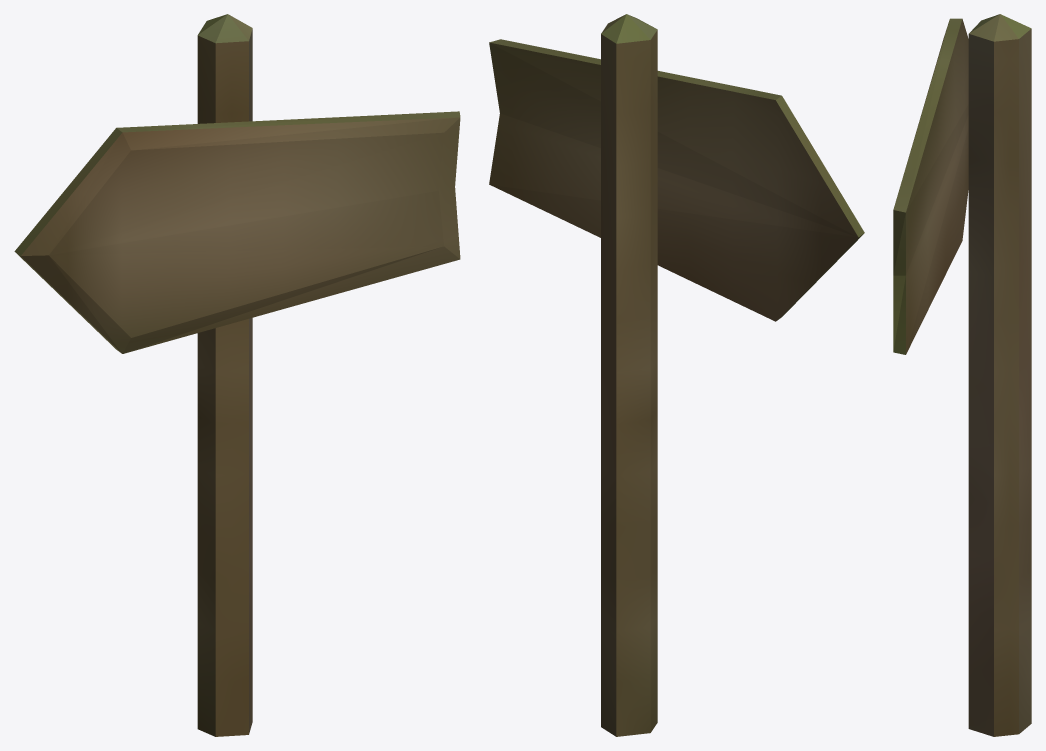
The model's file is signpost_game_lod2.glb.
3 views of the same model, side by side, from view 1: azimuth 30°, elevation 25°; view 2: azimuth 150°, elevation 25°; view 3: azimuth 270°, elevation 25° (orthographic).
Visible parts, largest first — view 1: geometry_0; view 2: geometry_0; view 3: geometry_0.
Boxes of the visible parts, x1=… form: geometry_0: x1=14, y1=14, x2=460, y2=736; geometry_0: x1=489, y1=14, x2=864, y2=736; geometry_0: x1=893, y1=14, x2=1031, y2=736.
Size of the model in its own units: 1.46 by 2.44 by 0.4297.
Materials: 1 (1 with a texture image).
